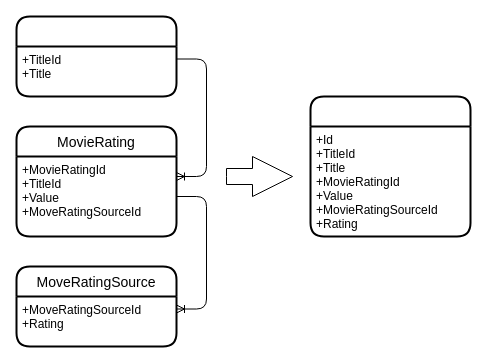
Image size: 487x363. Some labels were removed from this diagram. Each missing label, with the box of its shape:
Movie: (15, 15, 177, 97)
MovieRatingData: (309, 95, 471, 237)
